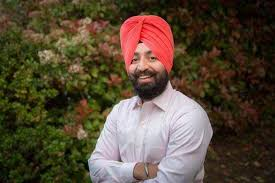helmet: (116, 16, 178, 98)
